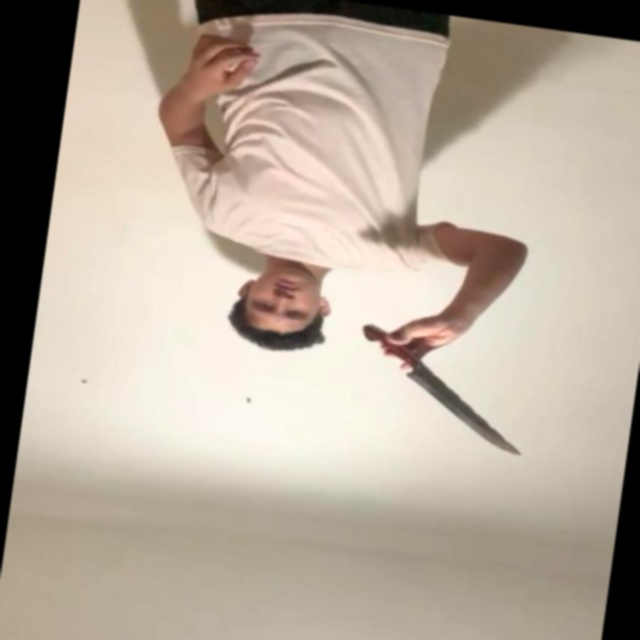Sharp-Object: (394, 370, 529, 455)
